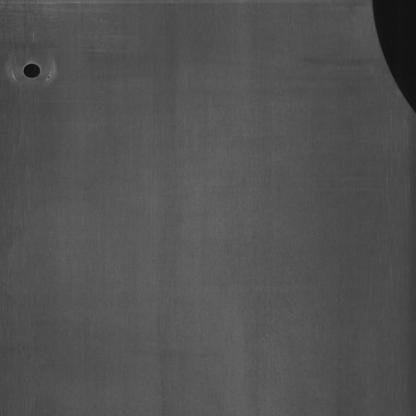crescent_gap: (366, 0, 416, 127)
punching_hole: (20, 56, 42, 83)
